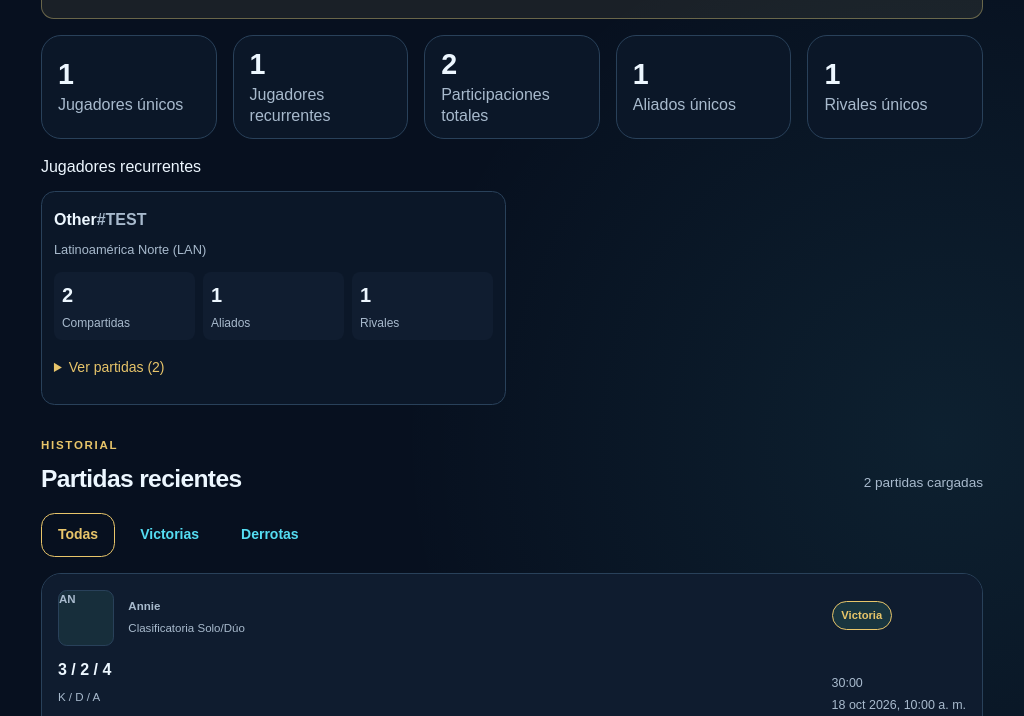
historical shared-match links are backed by deduplicated match evidence
(page scrolled)
Click the heading "Ver partidas (2)": (165, 367) x1=69 y1=358 x2=262 y2=375
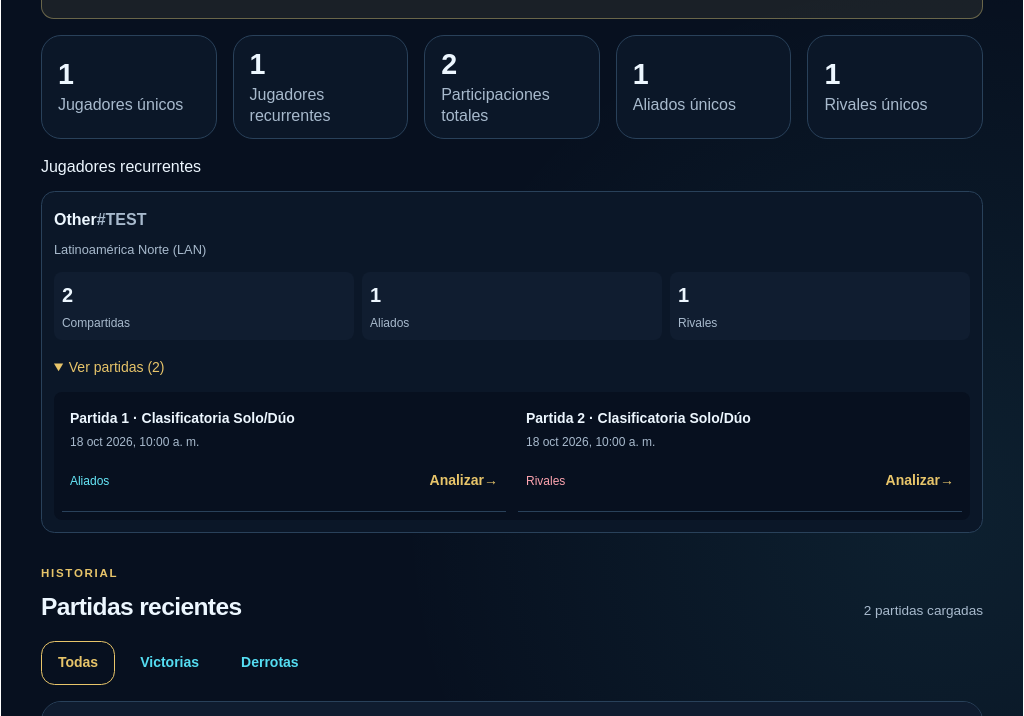
Result: the list item named "Analizar partida compartida 1 con Other#TEST" shows "Aliados" at x1=70 y1=474 x2=109 y2=488
Result: the list item named "Analizar partida compartida 2 con Other#TEST" shows "Rivales" at x1=526 y1=474 x2=565 y2=488
